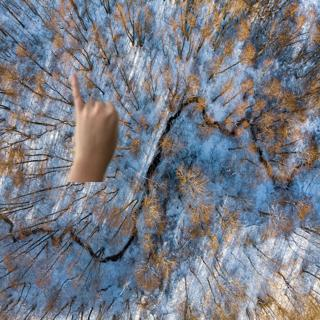FINE: (67, 72, 122, 172)
